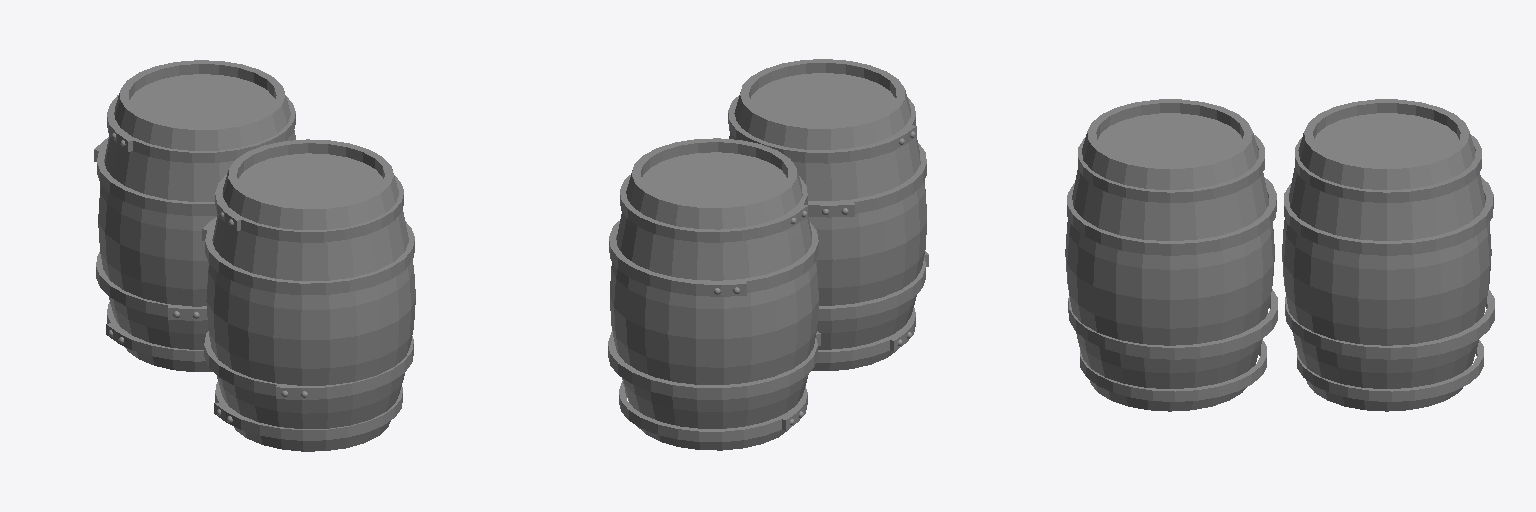
Rendered from old_barrel_final.obj.
The picture shows the model from 3 angles: view 1: azimuth 30°, elevation 25°; view 2: azimuth 150°, elevation 25°; view 3: azimuth 270°, elevation 25°; orthographic projection.
Visible parts, largest first — view 1: Cylinder002, Cylinder001, Tube008, Tube006, Tube005, Tube007, Tube001, Tube002, Tube003, Tube004; view 2: Cylinder001, Cylinder002, Tube002, Tube003, Tube001, Tube004, Tube005, Tube008, Tube006, Tube007; view 3: Cylinder001, Cylinder002, Tube008, Tube002, Tube003, Tube006, Tube001, Tube005, Tube004, Tube007.
Boxes of the visible parts, box(x1,y1,x2,y2) form: Cylinder002: box(206, 139, 415, 451); Cylinder001: box(98, 60, 295, 371); Tube008: box(202, 217, 414, 294); Tube006: box(204, 331, 413, 399); Tube005: box(215, 174, 403, 242); Tube007: box(214, 382, 402, 440); Tube001: box(107, 95, 295, 162); Tube002: box(94, 137, 217, 215); Tube003: box(96, 252, 207, 320); Tube004: box(106, 302, 205, 361); Cylinder001: box(610, 138, 818, 450); Cylinder002: box(729, 59, 926, 370); Tube002: box(609, 221, 818, 296); Tube003: box(608, 331, 820, 399); Tube001: box(620, 175, 807, 242); Tube004: box(619, 381, 807, 441); Tube005: box(728, 96, 916, 163); Tube008: box(808, 143, 926, 217); Tube006: box(818, 251, 928, 320); Tube007: box(816, 308, 915, 362); Cylinder001: box(1282, 99, 1491, 411); Cylinder002: box(1065, 99, 1274, 411); Tube008: box(1067, 177, 1276, 255); Tube002: box(1284, 177, 1493, 255); Tube003: box(1285, 290, 1494, 359); Tube006: box(1068, 289, 1277, 359); Tube001: box(1295, 135, 1481, 202); Tube005: box(1078, 135, 1264, 202); Tube004: box(1297, 340, 1483, 401); Tube007: box(1080, 340, 1266, 401).
Bounding box in the file's own units: 56.28 × 71.9 × 115.